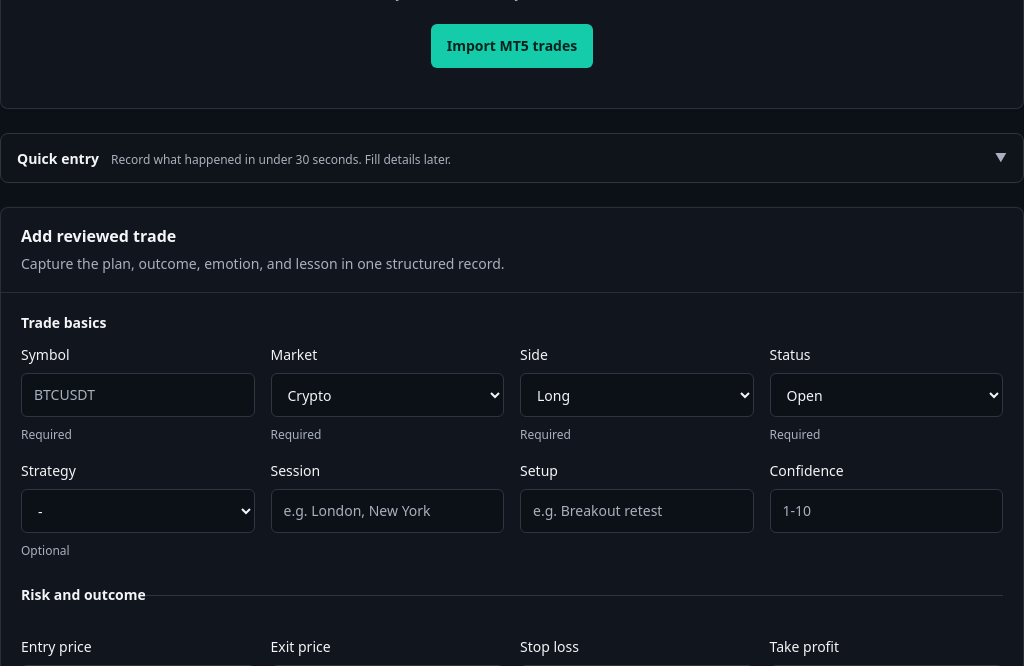
Scenario: journal full form: closing a trade › marks both fields as required in the label too
The width and height of the screenshot is (1024, 666).
(page scrolled)
Expected: the text "Required" is not shown
Select "Closed" in the dropdown labelled "Status Required": x=886, y=395 [770,373,1003,417]
(page scrolled)
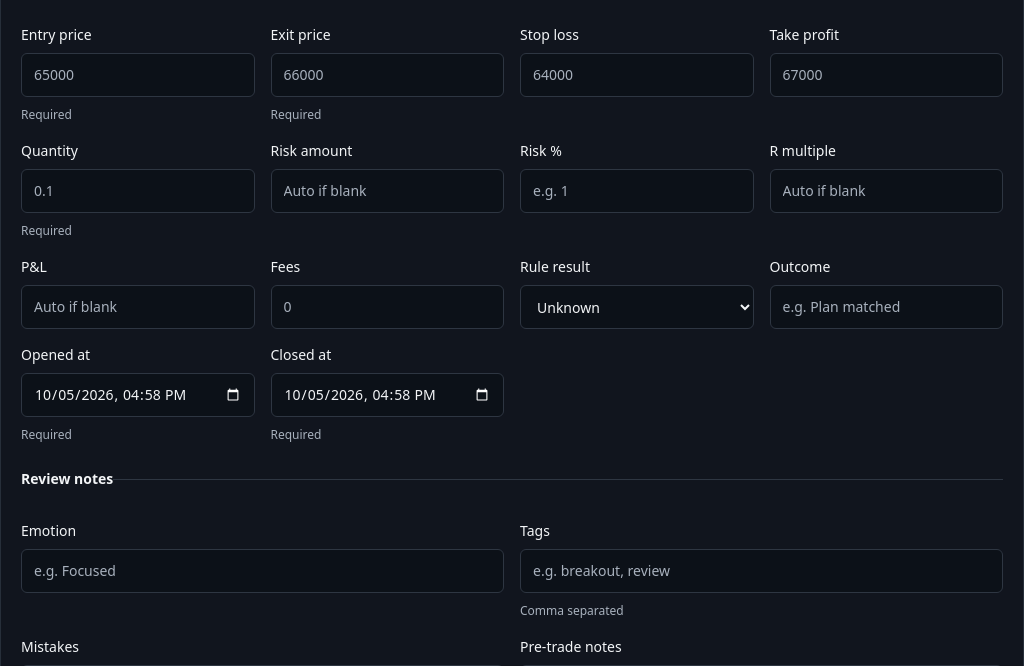
Expected: the label "Closed at Required" is shown, [270,345,504,445]
